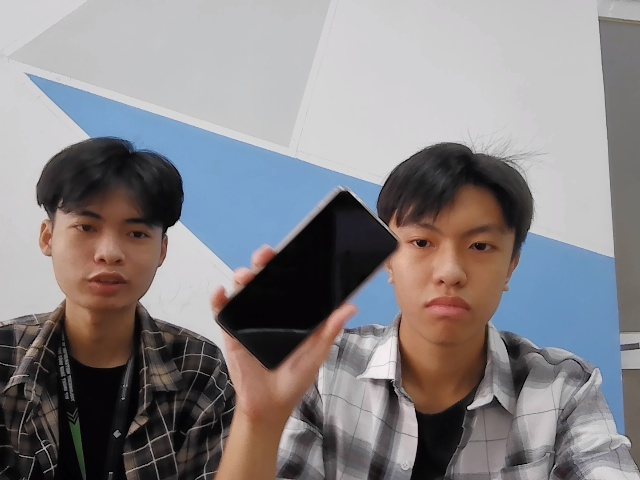human: (377, 141, 535, 349), (37, 137, 185, 316)
phone: (217, 185, 406, 376)
